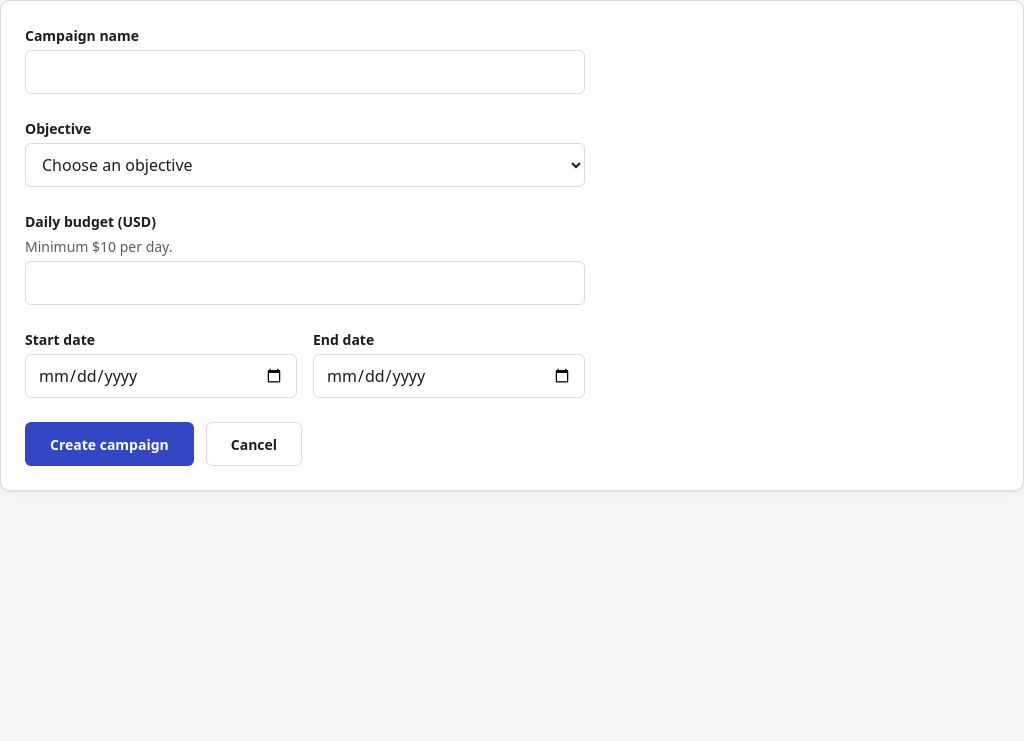
CampaignForm › shows an error summary and blocks submit when fields are empty
The width and height of the screenshot is (1024, 741).
Click the button "Create campaign": (109,444) x1=25 y1=422 x2=194 y2=466
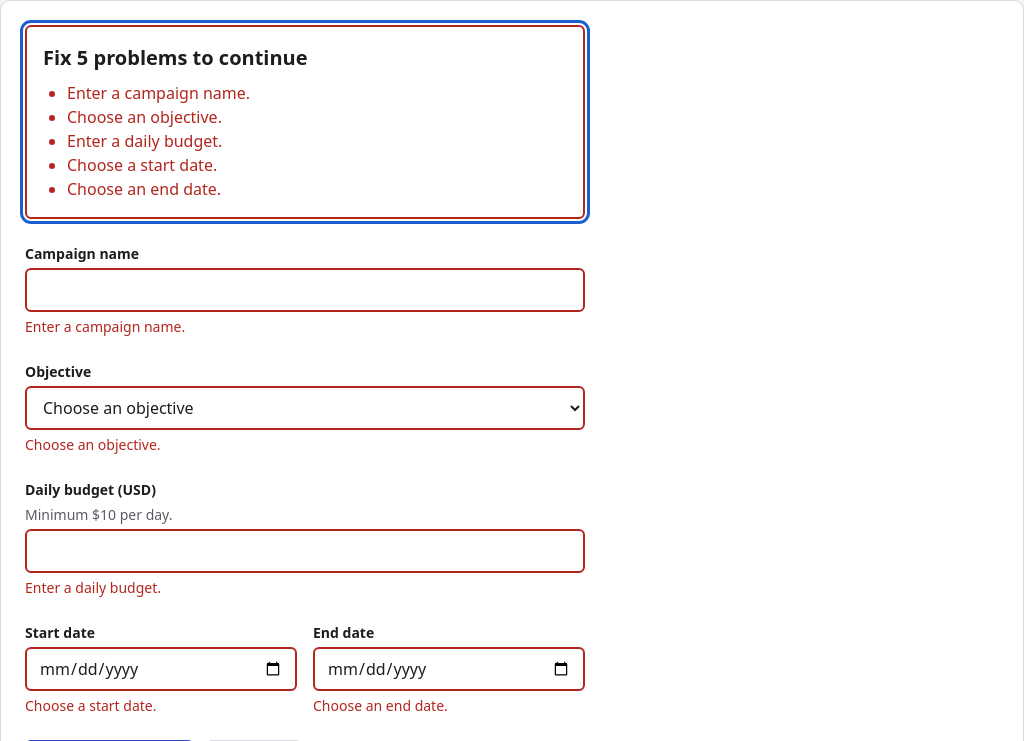
Check: the message shows "Fix 5 problems to continue", box x1=25 y1=25 x2=585 y2=219
